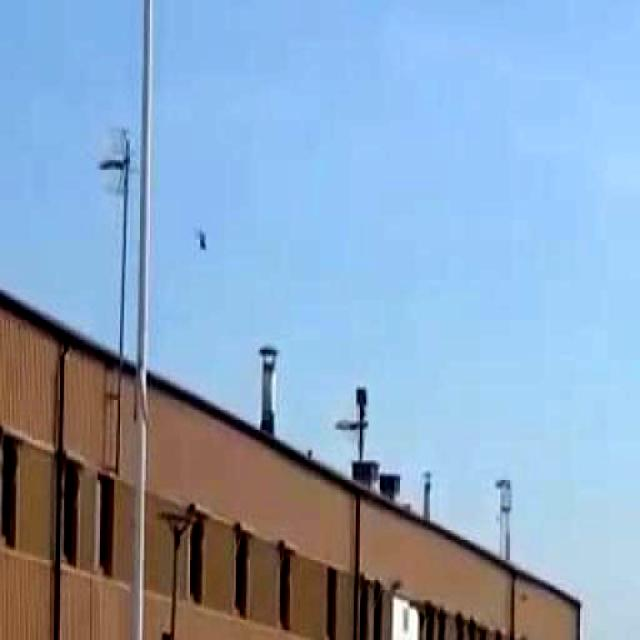drone: (179, 196, 235, 278)
